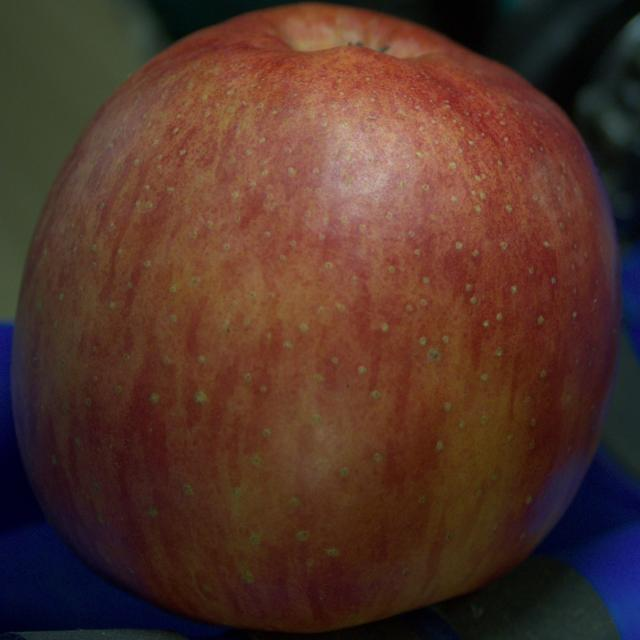apple: (11, 4, 620, 632)
